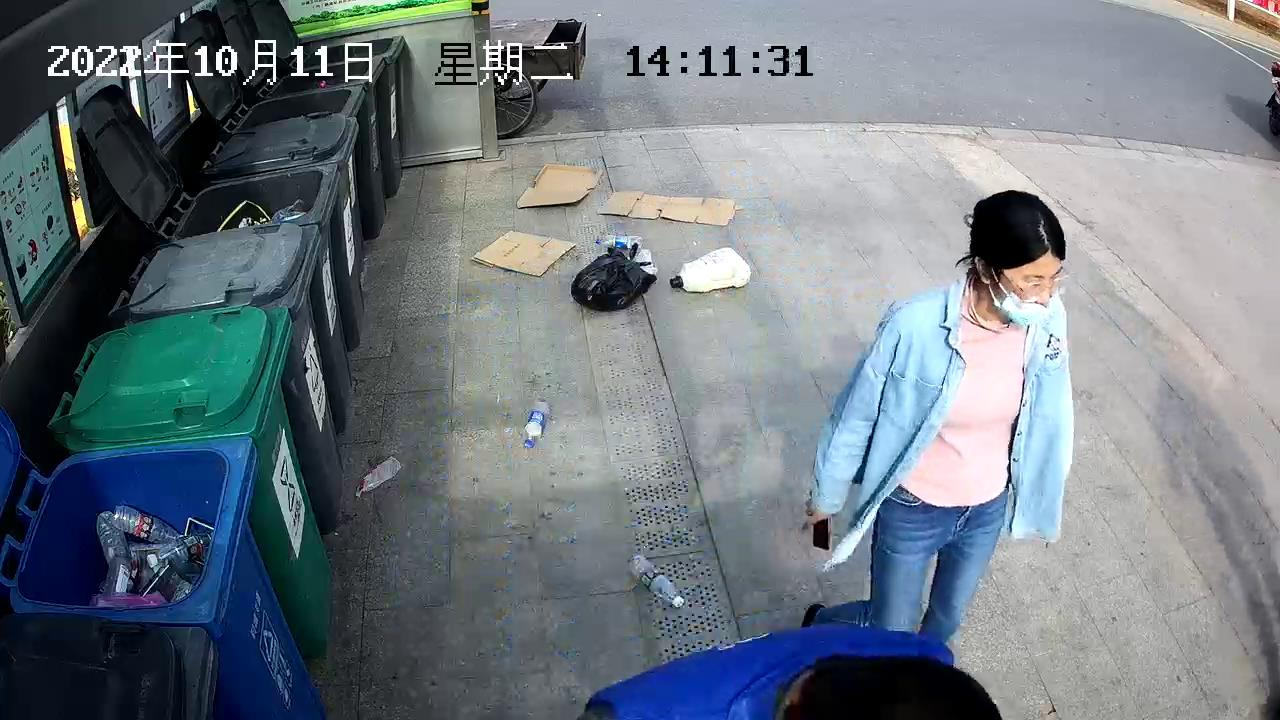garbage-bag: (569, 240, 659, 313)
suliaozhipin: (668, 245, 754, 294), (626, 552, 685, 609), (353, 452, 400, 497), (522, 395, 551, 449), (592, 232, 644, 251)
worker: (802, 190, 1078, 633), (577, 619, 1003, 718)
zhizhipin: (469, 227, 578, 280), (597, 188, 741, 228), (514, 161, 600, 210)
